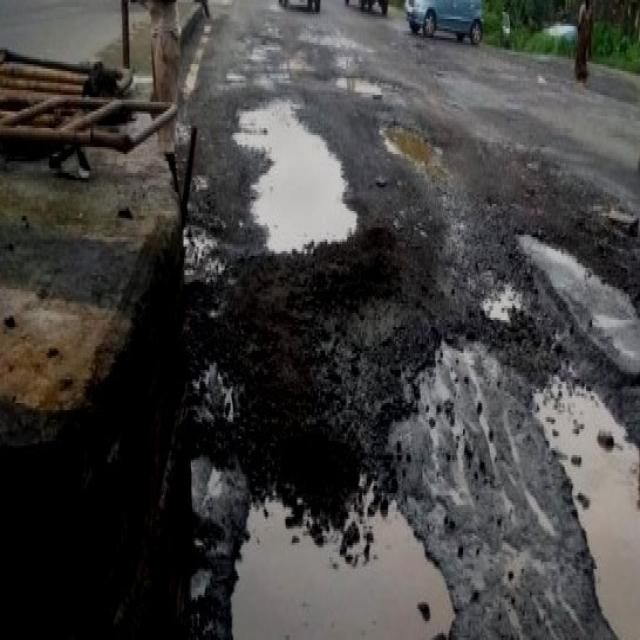road-pothole: (231, 457, 463, 638), (526, 346, 639, 638), (228, 91, 357, 255), (511, 222, 639, 376)
